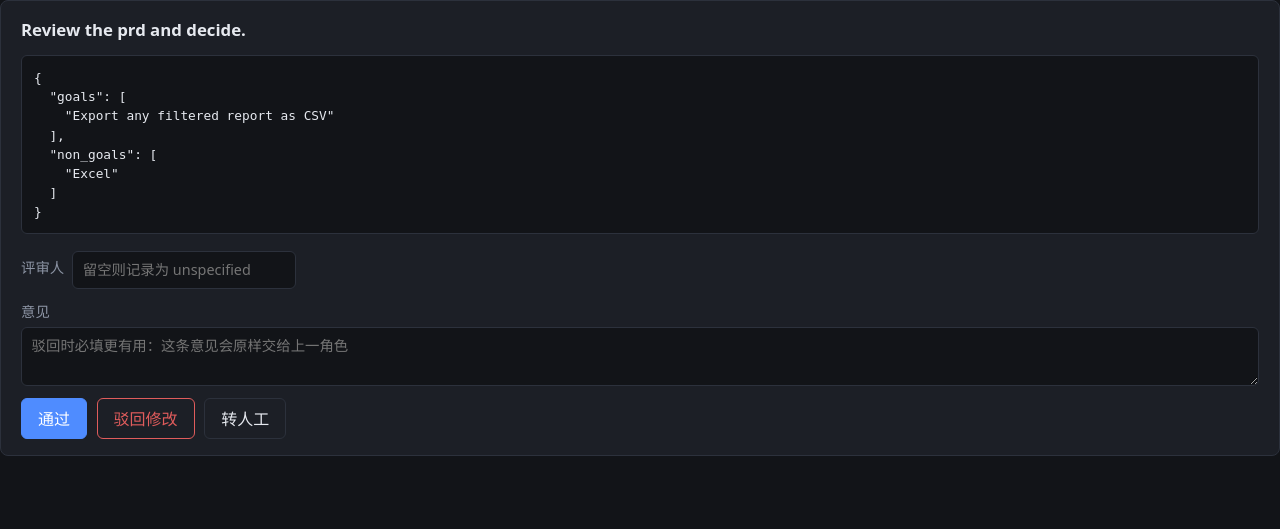
it: ReviewPanel › shows the server's refusal and stays answerable
What coordinates should you click on to do the following:
click the button "通过"
I would click on:
 (54, 419)
Its box is [21,398,87,439].
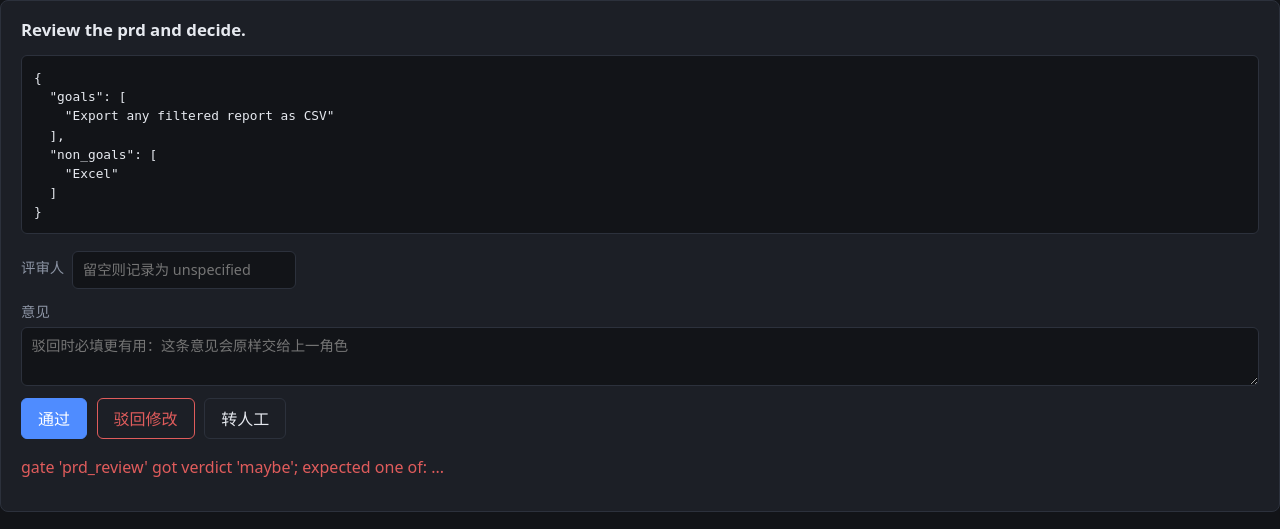
Check: the text "gate 'prd_review' got verdict 'maybe'; expected one of: ..." is shown, box [21,456,444,478]
